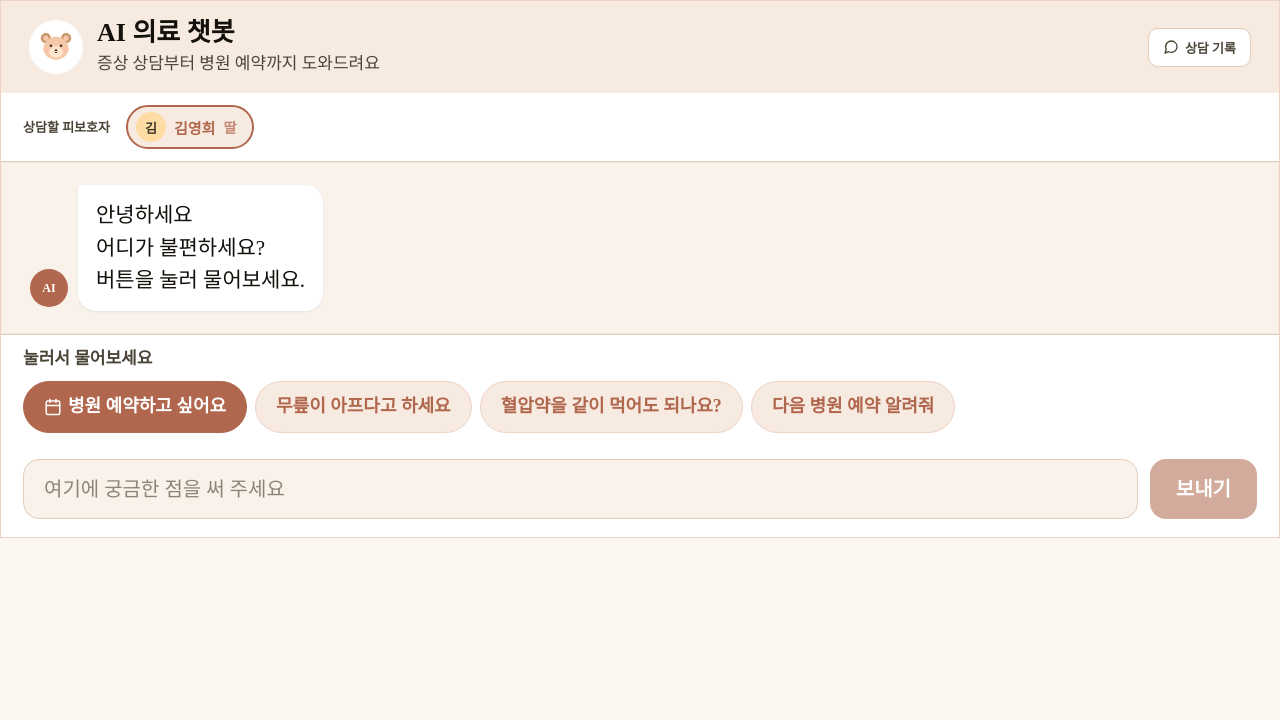
Test case: 보호자 AI 의료 챗봇 › 직접 쓴 "병원 예약해줘"는 지금처럼 AI로 보내고 이동하지 않는다
Step 1. Type "병원 예약해줘" into the text box named "궁금한 점 입력" → (580, 489), box x1=23 y1=459 x2=1138 y2=519
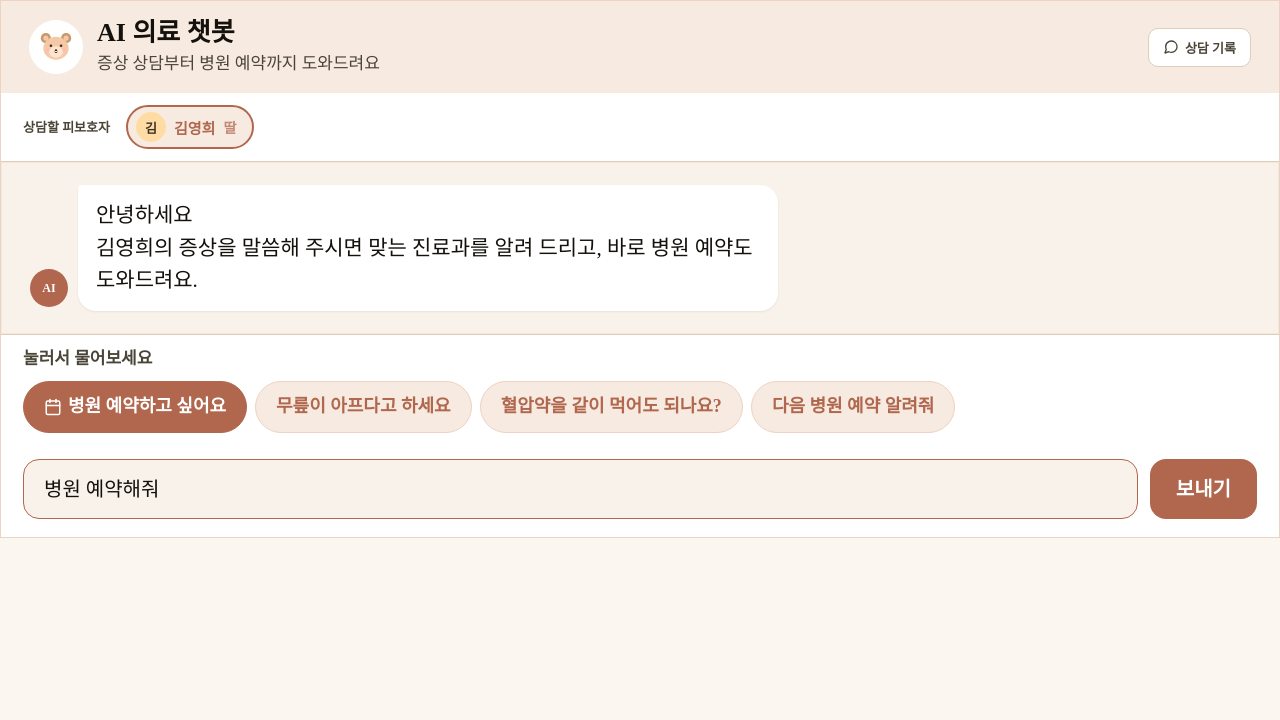
Step 2. Click the button "보내기" → (1203, 489), box x1=1150 y1=459 x2=1257 y2=519
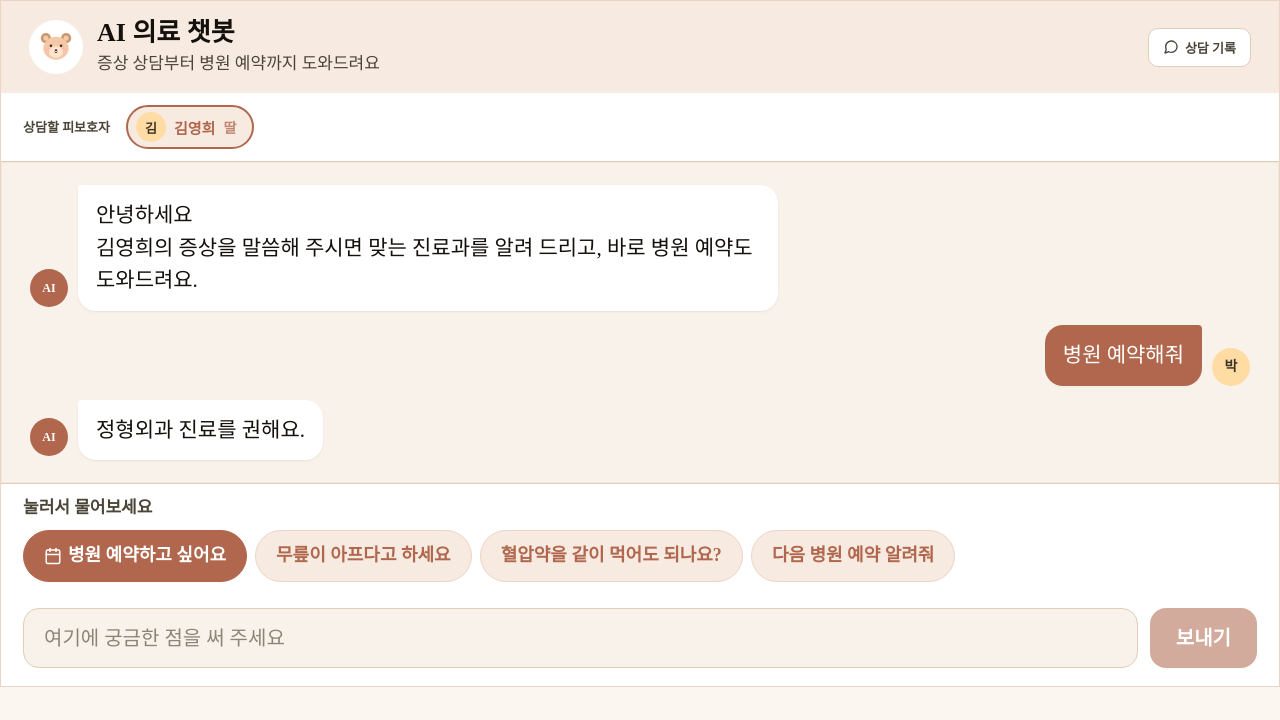
Expected: the text "병원 예약해줘" is shown, x1=1063 y1=339 x2=1184 y2=372
